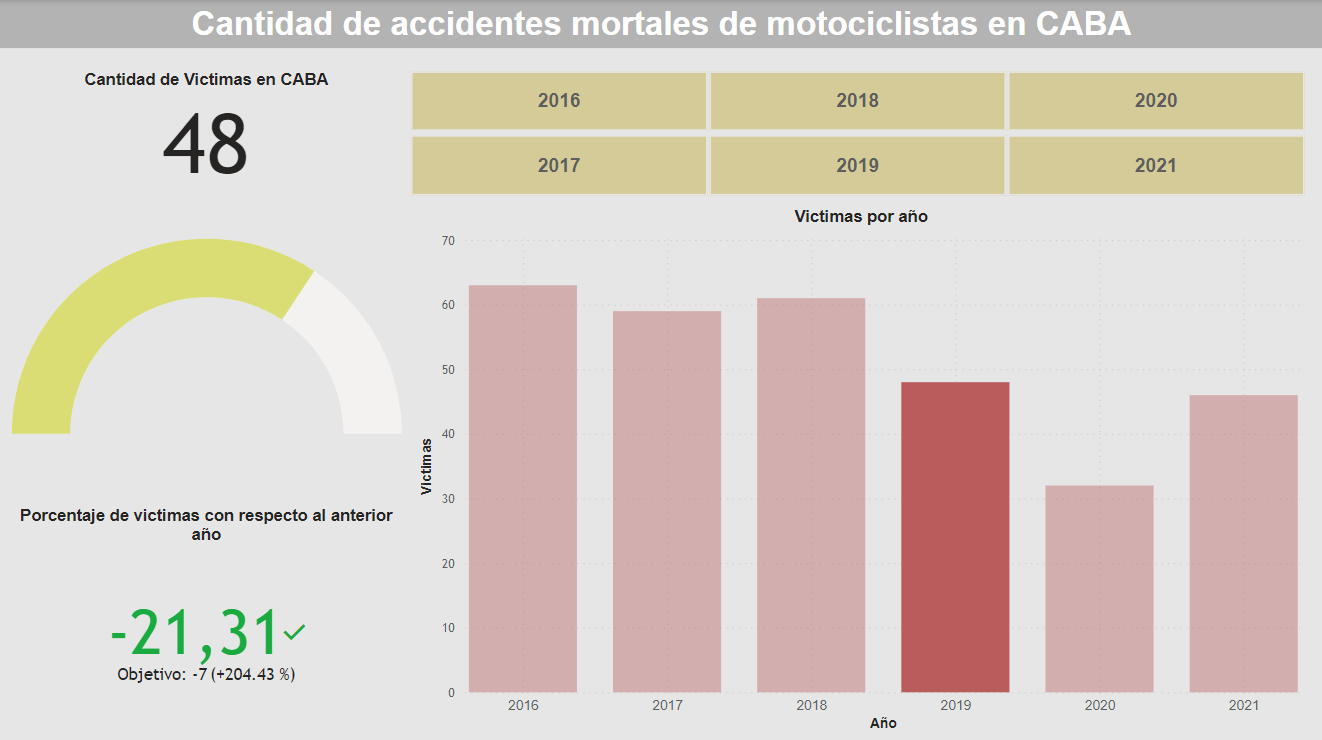

Layout of this report page (visuals, bound fields, positions):
{"tool":"powerbi","page":{"name":"KPI 2","canvas":[1280,720],"ordinal":3},"visuals":[{"type":"columnChart","title":"Victimas por año","fields":{"Category":["Tasa_homicidios_moto.Anio"],"Y":["Sum(Tasa_homicidios_moto.N_VICTIMAS)"]},"box":[402.8,200.2,859.9,510.2],"z":0},{"type":"card","title":"Cantidad de Victimas en CABA","fields":{"Values":["Sum(Tasa_homicidios_moto.N_VICTIMAS)"]},"box":[8,68,385,109],"z":1000},{"type":"kpi","title":"Porcentaje de victimas con respecto al anterior año","fields":{"Indicator":["Avg(Tasa_homicidios_moto.VARIACION_VICTIMAS_MOTO)"],"TrendLine":["Tasa_homicidios_moto.Anio"],"Goal":["Tasa_homicidios_moto.Objetivo2"]},"box":[8,488,385,220],"z":2000},{"type":"slicer","fields":{"Values":["Tasa_homicidios_moto.Anio"]},"box":[377.5,66.3,902.1,124.2],"z":3000},{"type":"textbox","box":[0,0,1280.2,46],"z":4000},{"type":"gauge","fields":{"Y":["Avg(Tasa_homicidios_moto.N_VICTIMAS)"]},"box":[8.5,162.2,386.5,325.5],"z":5000}]}

Visuals, with their boxes in screenshot pixels (x1, y1, x2, y2), scaled from the page's 1280x720 canvas onto the 1322x740 screenshot:
"Victimas por año" columnChart: 416/206/1304/730
"Cantidad de Victimas en CABA" card: 8/70/406/182
"Porcentaje de victimas con respecto al anterior año" kpi: 8/502/406/728
slicer - Tasa_homicidios_moto.Anio: 390/68/1321/196
textbox: 0/0/1321/47
gauge - Avg(Tasa_homicidios_moto.N_VICTIMAS): 9/167/408/501
